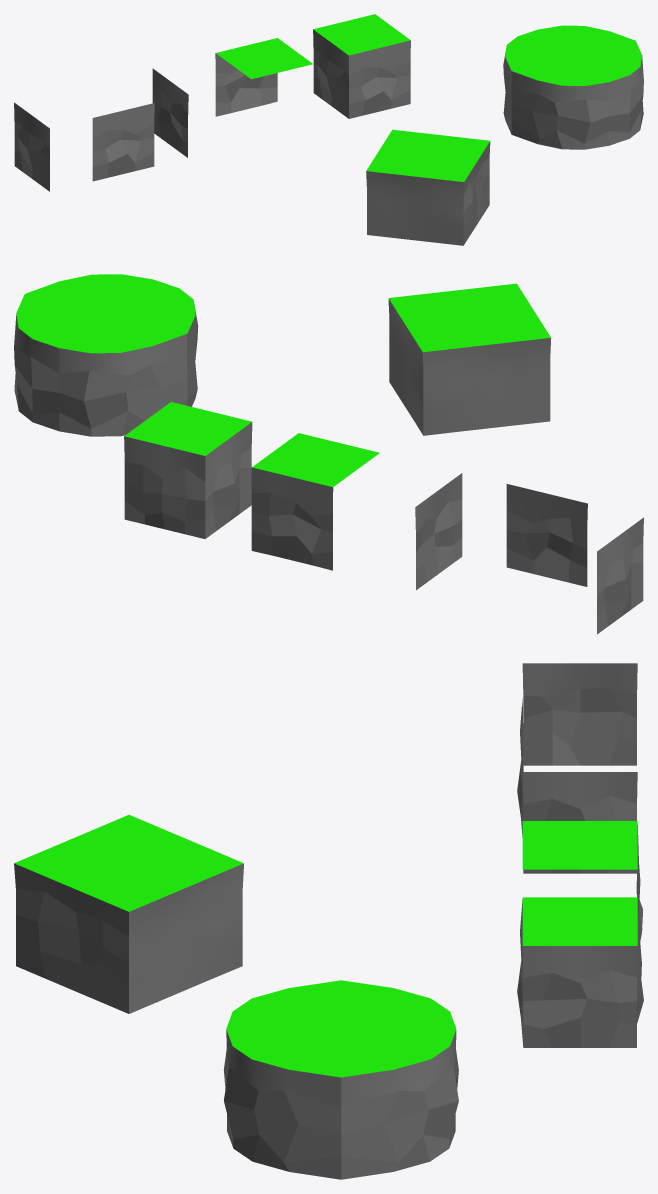
File: AllEarth.fbx
3 renders of one model, top to bottom at view 1: azimuth 30°, elevation 25°; view 2: azimuth 150°, elevation 25°; view 3: azimuth 270°, elevation 25°, orthographic. The views are drawn at different scales.
Visible parts, largest first — view 1: Land_Cub_01, Land_Circle_04, Land_Diogonal_03, Land_Cub_02, Object041, Land_Circle_03, Land_Diogonal_04, Object042, Object040, Land_Circle_01, Land_Circle_02, Land_Diogonal_02 (+1 smaller); view 2: Land_Cub_01, Land_Circle_01, Land_Diogonal_01, Land_Cub_02, Object041, Land_Circle_02, Land_Diogonal_02, Object040, Object042, Land_Circle_04, Land_Circle_03, Land_Diogonal_04 (+1 smaller); view 3: Land_Cub_01, Land_Circle_03, Land_Circle_02, Land_Diogonal_02, Land_Diogonal_04, Object042, Object040, Land_Cub_02, Land_Circle_01, Land_Circle_04, Land_Diogonal_01, Land_Diogonal_03.
Part boxes in pixels (bbox=[...]): Land_Cub_01: bbox=[313, 14, 410, 118]; Land_Circle_04: bbox=[511, 56, 609, 149]; Land_Diogonal_03: bbox=[366, 156, 463, 245]; Land_Cub_02: bbox=[215, 38, 312, 116]; Object041: bbox=[92, 103, 154, 181]; Land_Circle_03: bbox=[574, 40, 643, 145]; Land_Diogonal_04: bbox=[429, 141, 490, 244]; Object042: bbox=[14, 102, 49, 191]; Object040: bbox=[152, 68, 188, 157]; Land_Circle_01: bbox=[503, 29, 573, 134]; Land_Circle_02: bbox=[538, 25, 635, 55]; Land_Diogonal_02: bbox=[393, 129, 489, 155]; Land_Cub_01: bbox=[124, 402, 252, 538]; Land_Circle_01: bbox=[59, 314, 187, 436]; Land_Diogonal_01: bbox=[423, 318, 551, 435]; Land_Cub_02: bbox=[251, 433, 379, 570]; Object041: bbox=[506, 484, 587, 586]; Land_Circle_02: bbox=[14, 294, 105, 430]; Land_Diogonal_02: bbox=[388, 298, 469, 434]; Object040: bbox=[415, 473, 462, 590]; Object042: bbox=[597, 517, 643, 634]; Land_Circle_04: bbox=[106, 279, 198, 406]; Land_Circle_03: bbox=[25, 274, 152, 313]; Land_Diogonal_04: bbox=[389, 283, 515, 317]; Land_Cub_01: bbox=[517, 897, 643, 1047]; Land_Circle_03: bbox=[224, 1029, 341, 1179]; Land_Circle_02: bbox=[341, 1029, 458, 1179]; Land_Diogonal_02: bbox=[129, 863, 243, 1013]; Land_Diogonal_04: bbox=[14, 863, 128, 1013]; Object042: bbox=[522, 663, 637, 765]; Object040: bbox=[522, 772, 637, 873]; Land_Cub_02: bbox=[522, 821, 642, 940]; Land_Circle_01: bbox=[341, 980, 458, 1088]; Land_Circle_04: bbox=[223, 980, 341, 1089]; Land_Diogonal_01: bbox=[129, 815, 243, 863]; Land_Diogonal_03: bbox=[14, 815, 128, 863].
Bounding box in the file's own units: 6872 × 4380 × 789.
